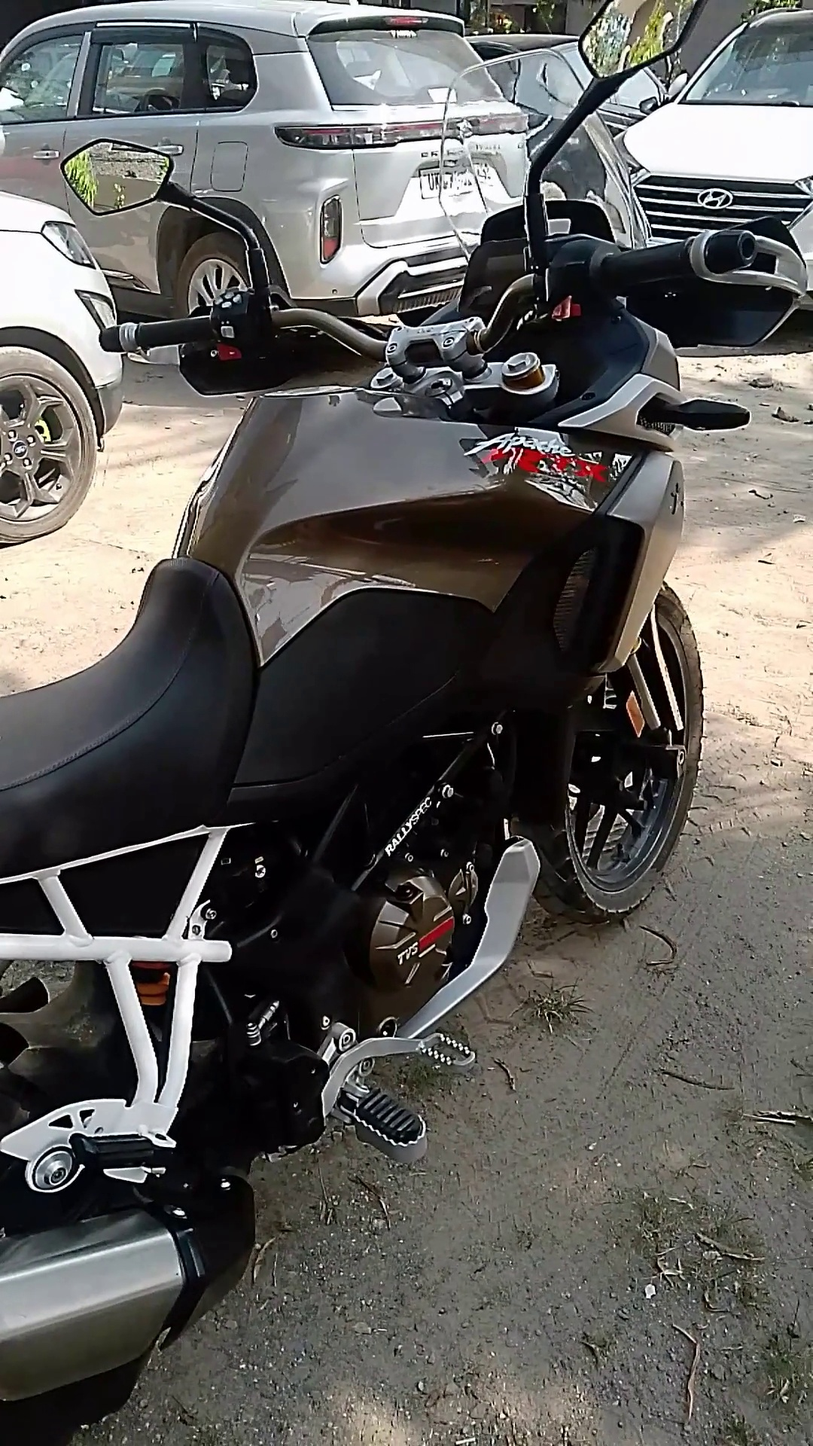engine: (297, 791, 504, 1039)
